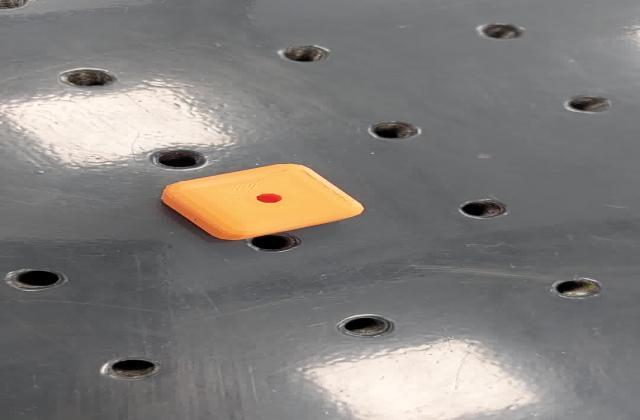cube: (150, 160, 374, 246)
